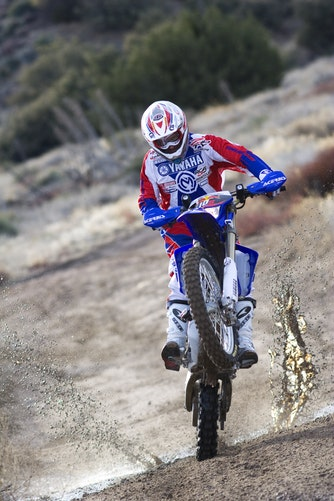helmet: (141, 100, 191, 157)
